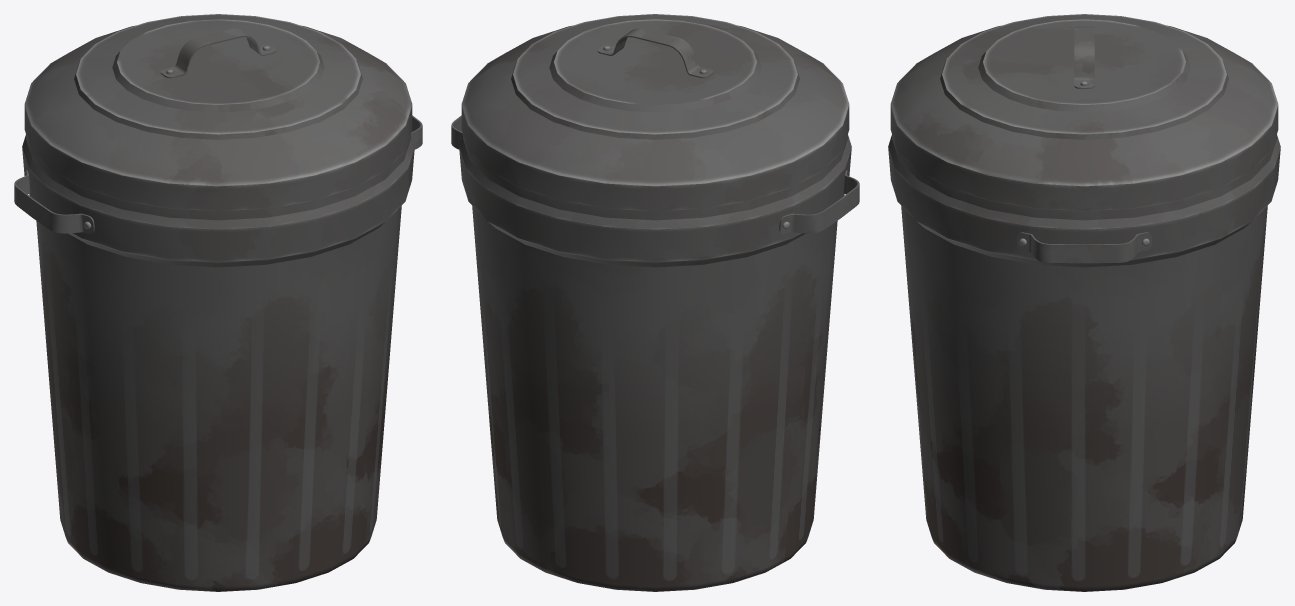
File: trash-can.glb
The picture shows the model from 3 angles, left to right: view 1: azimuth 30°, elevation 25°; view 2: azimuth 150°, elevation 25°; view 3: azimuth 270°, elevation 25°; orthographic projection.
Parts seen in each view (by area): view 1: SM_Trash_Can_0; view 2: SM_Trash_Can_0; view 3: SM_Trash_Can_0.
Boxes of the visible parts, x1=… form: SM_Trash_Can_0: x1=14, y1=14, x2=422, y2=591; SM_Trash_Can_0: x1=451, y1=14, x2=859, y2=591; SM_Trash_Can_0: x1=888, y1=14, x2=1280, y2=591.
Bounding box in the file's own units: 0.7002 × 0.8848 × 0.6404.
1 material, 1 textured.
